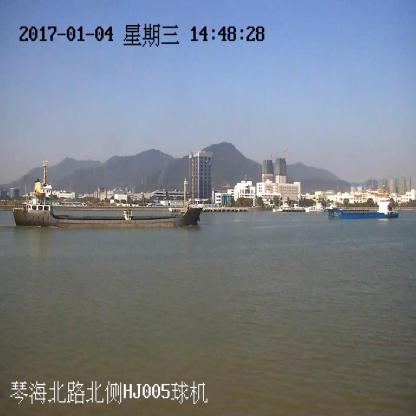Bulk Carrier: (13, 162, 202, 229), (329, 194, 398, 220)
